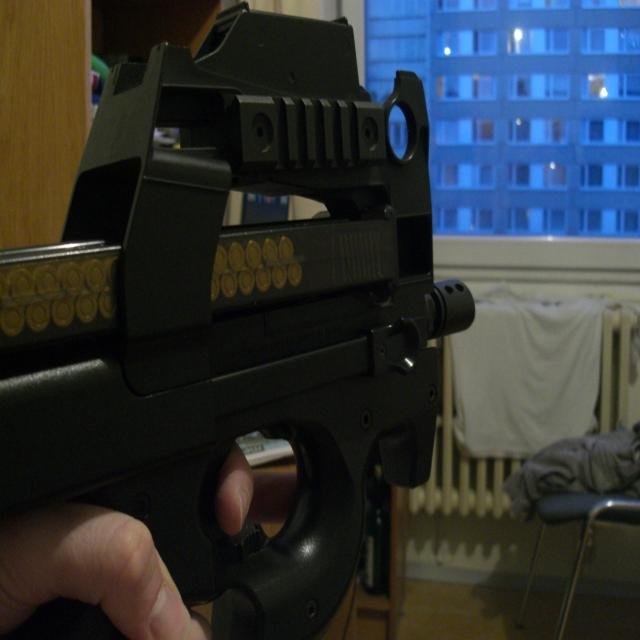Gun: (13, 6, 484, 624)
